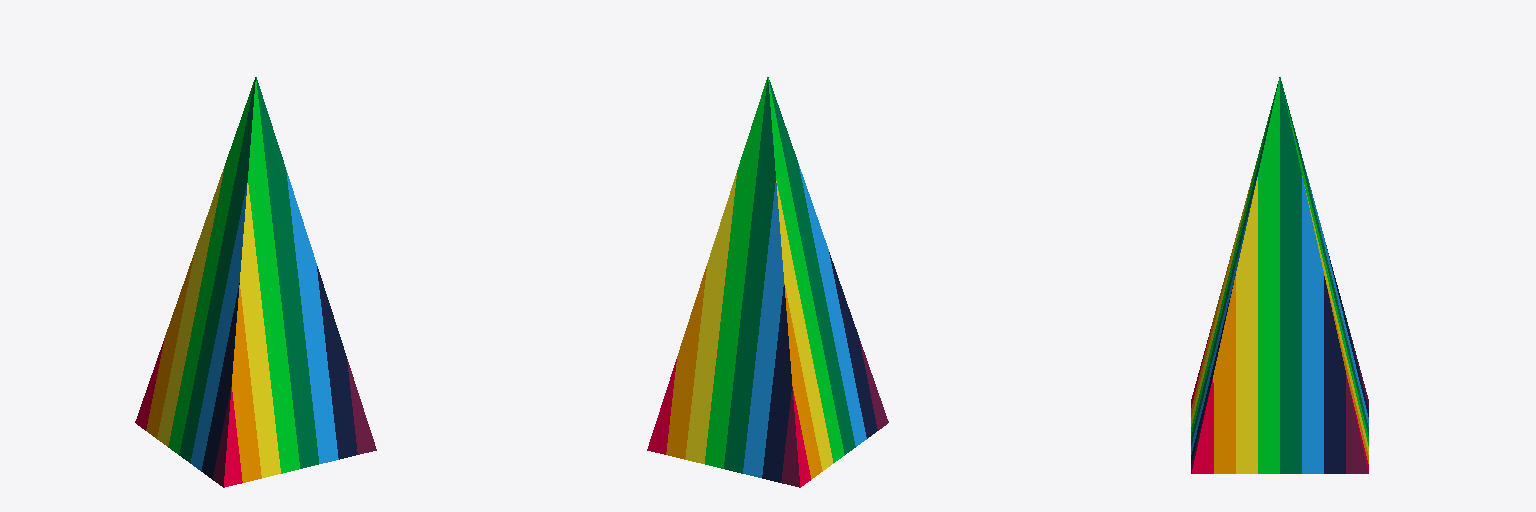
The picture shows the model from 3 angles: view 1: azimuth 30°, elevation 25°; view 2: azimuth 150°, elevation 25°; view 3: azimuth 270°, elevation 25°; orthographic projection.
Parts seen in each view (by area): view 1: rainbowshard; view 2: rainbowshard; view 3: rainbowshard.
Boxes of the visible parts, <box> form: rainbowshard: <box>135,77,376,487</box>; rainbowshard: <box>647,77,888,487</box>; rainbowshard: <box>1191,77,1368,473</box>.
Bounding box in the file's own units: 1 × 2.25 × 1.
Materials: 1 (1 with a texture image).